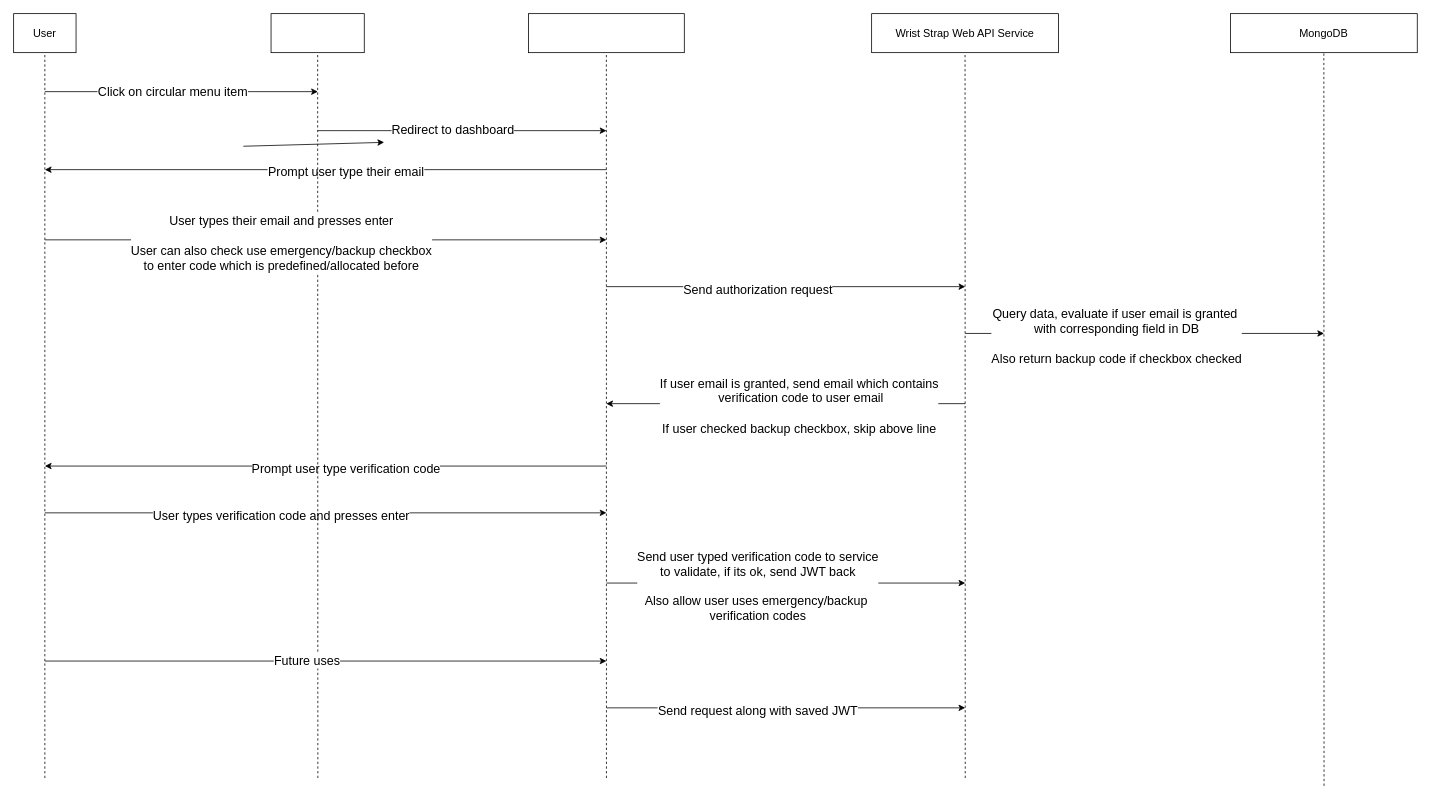
Some shapes in this 1431 by 800 pixel diagram are drawn without their labels. The shapes that lost their labels are listed below. From the top down, each one's centre as x and y in pixels, then its label:
point (317, 33): Landing page
point (606, 33): Wrist Strap Monitor Dashboard
